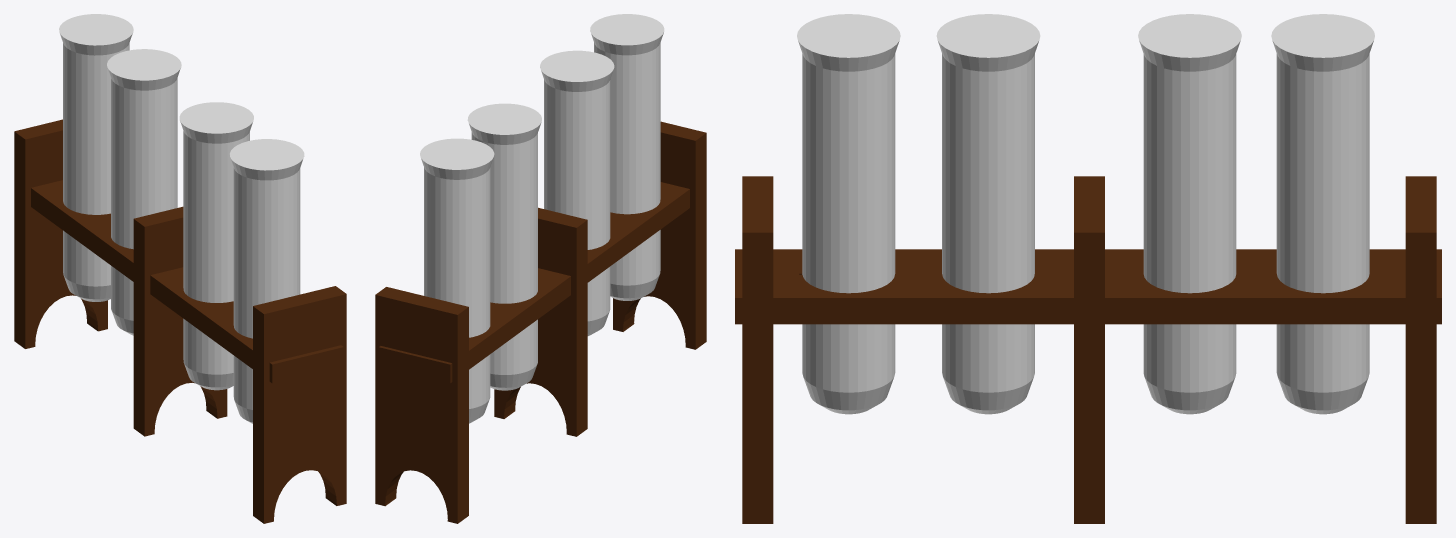
Rendered from FlaskV4.fbx.
3 renders of one model, left to right at view 1: azimuth 30°, elevation 25°; view 2: azimuth 150°, elevation 25°; view 3: azimuth 270°, elevation 25°, orthographic. The views are drawn at different scales.
Visible parts, largest first — view 1: FlaskV4, Cube; view 2: FlaskV4, Cube; view 3: FlaskV4, Cube.
Boxes of the visible parts, left/top/right/bottom form: FlaskV4: left=59, top=14, right=304, bottom=423; Cube: left=14, top=119, right=346, bottom=523; FlaskV4: left=420, top=14, right=664, bottom=423; Cube: left=375, top=121, right=706, bottom=523; FlaskV4: left=797, top=14, right=1374, bottom=414; Cube: left=735, top=176, right=1441, bottom=523.
Bounding box in the file's own units: 160 × 612 × 853.
